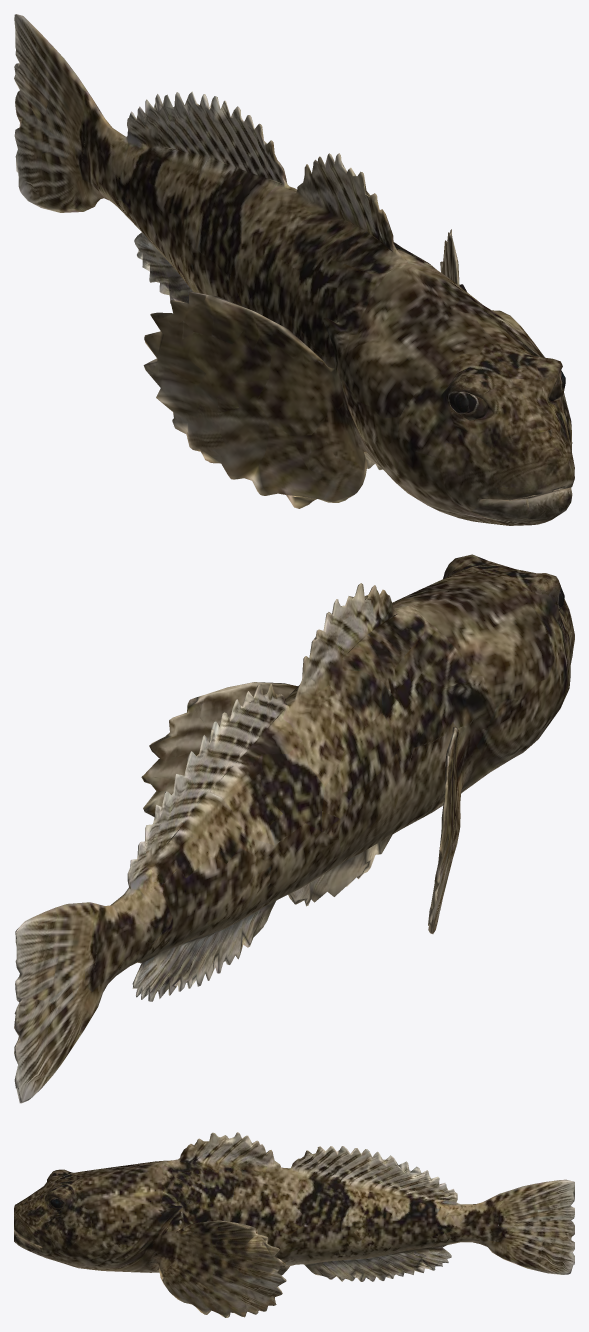
The model's file is bullhead.lo.glb.
3 renders of one model, top to bottom at view 1: azimuth 30°, elevation 25°; view 2: azimuth 150°, elevation 25°; view 3: azimuth 270°, elevation 25°, orthographic. The views are drawn at different scales.
Visible parts, largest first — view 1: Mesh_0; view 2: Mesh_0; view 3: Mesh_0.
Boxes of the visible parts, box(x1,y1,x2,y2) form: Mesh_0: box(14, 14, 574, 525); Mesh_0: box(14, 554, 574, 1103); Mesh_0: box(14, 1132, 574, 1317).
Size of the model in its own units: 0.0349 by 0.0351 by 0.108.
2 materials, 2 textured.
